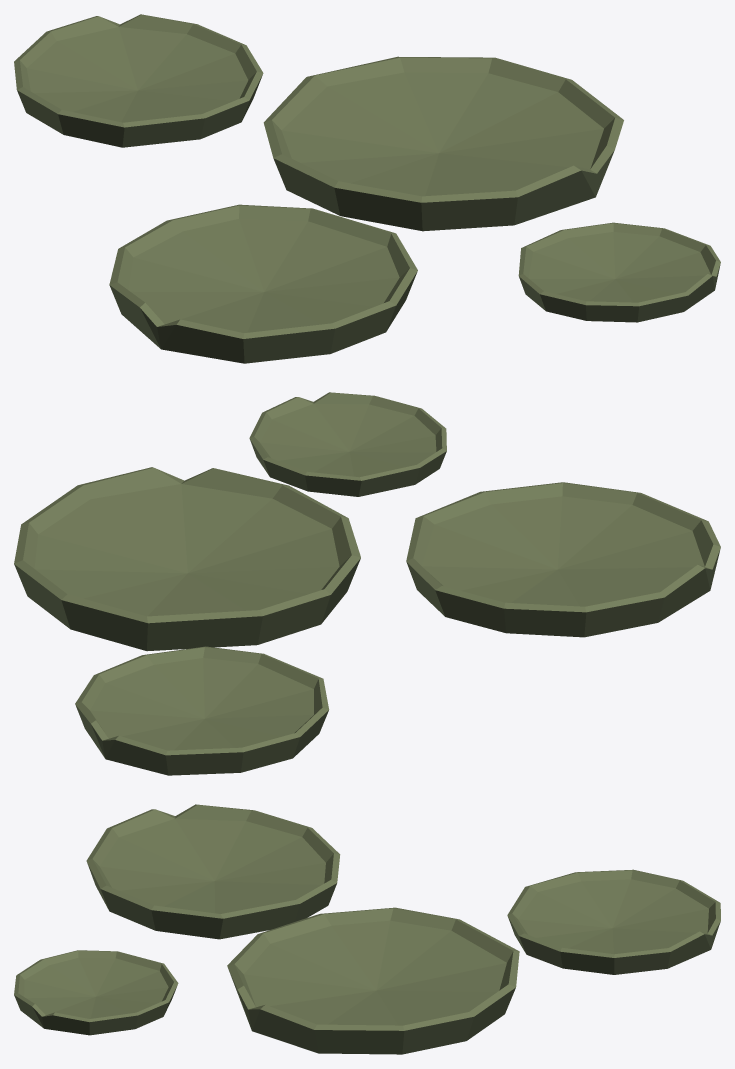
Rendered from synty-plant-lillypad-large-02.gltf.
The picture shows the model from 3 angles, top to bottom: view 1: azimuth 30°, elevation 25°; view 2: azimuth 150°, elevation 25°; view 3: azimuth 270°, elevation 25°; orthographic projection. The views are drawn at different scales.
Visible parts, largest first — view 1: SM_Plant_Lillypad_Large_02; view 2: SM_Plant_Lillypad_Large_02; view 3: SM_Plant_Lillypad_Large_02.
Part boxes in pixels (x1,y1,x2,y2): SM_Plant_Lillypad_Large_02: [14, 14, 720, 363]; SM_Plant_Lillypad_Large_02: [14, 392, 720, 775]; SM_Plant_Lillypad_Large_02: [14, 804, 720, 1054].
Size of the model in its own units: 1.49 by 0.1071 by 1.97.
Materials: 1 (1 with a texture image).
